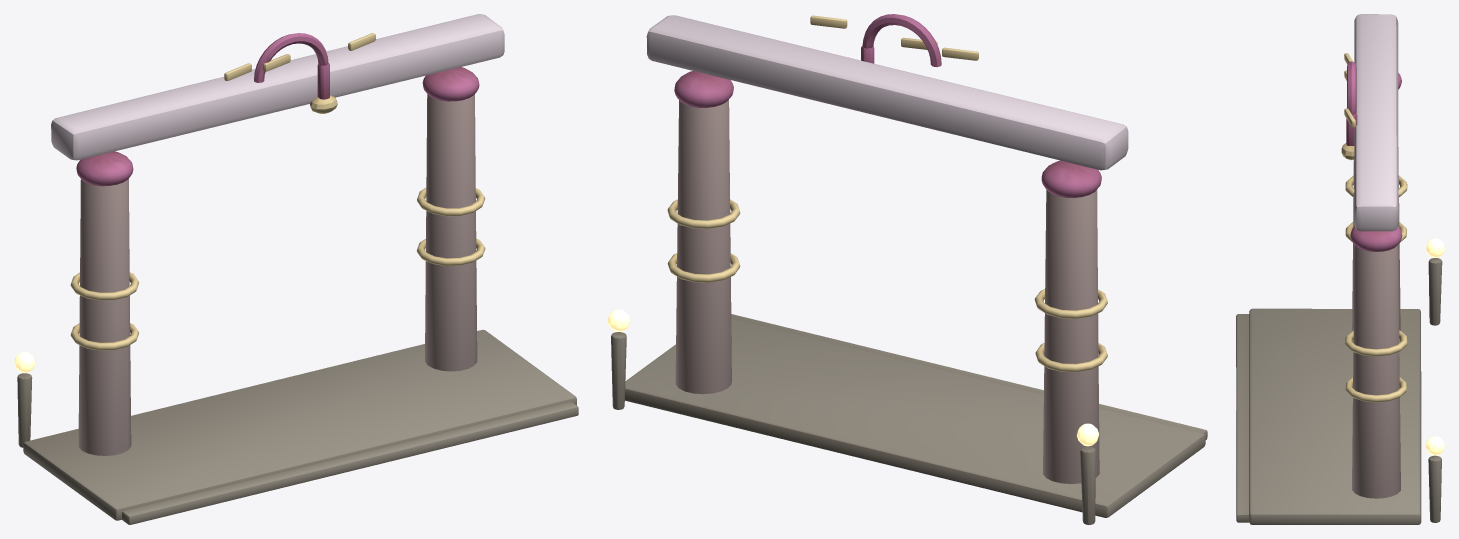
3 views of the same model, side by side, from view 1: azimuth 30°, elevation 25°; view 2: azimuth 150°, elevation 25°; view 3: azimuth 270°, elevation 25° (orthographic). The views are drawn at different scales.
Parts seen in each view (by area): view 1: gate_462198a8; view 2: gate_462198a8; view 3: gate_462198a8.
Boxes of the visible parts, box(x1,y1,x2,y2) form: gate_462198a8: box(14, 14, 578, 524); gate_462198a8: box(607, 14, 1207, 524); gate_462198a8: box(1236, 14, 1444, 524).
Size of the model in its own units: 5.97 by 4.86 by 2.55.
